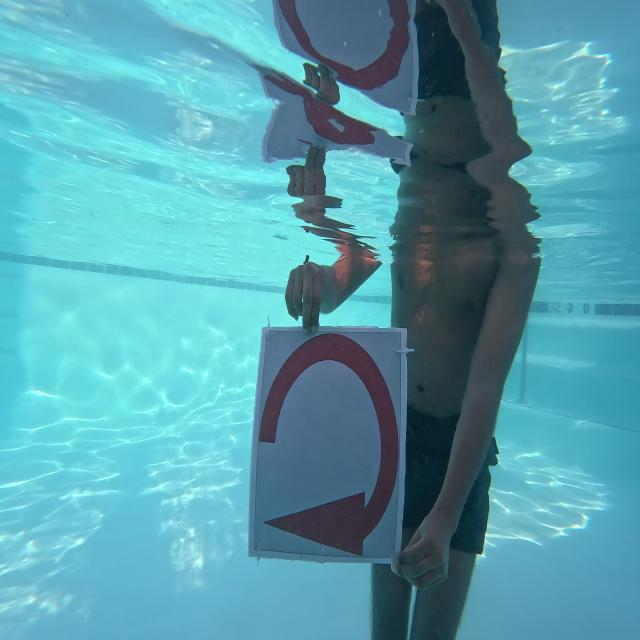red_side: (256, 323, 406, 567)
